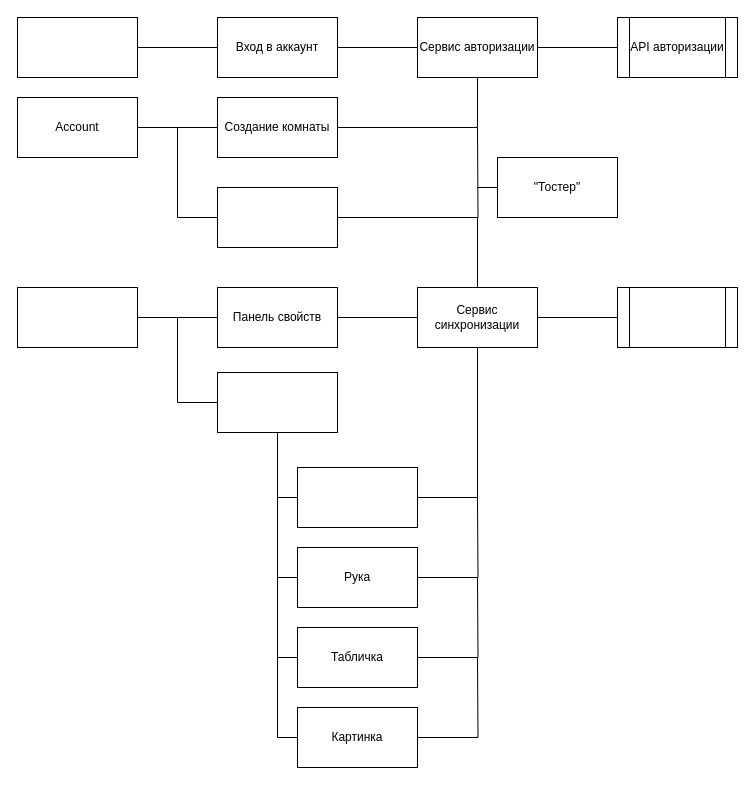
The diagram is 755 pixels wide and 785 high, and some of its shapes have lost their labels. Here are the shapes that lost their labels. From the top down, the centre of each, then its label:
At [77,47]: "Login".
At [277,217]: "Удаление комнаты".
At [77,317]: "Canvas".
At [677,317]: "WebSocket сервер".
At [277,402]: "Панель инструментов".
At [357,497]: "Перо".
